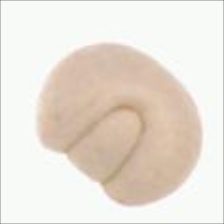L5: (63, 105, 150, 187)
L6: (33, 41, 205, 205)
